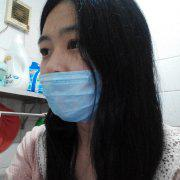WRONG: (31, 26, 136, 131)
